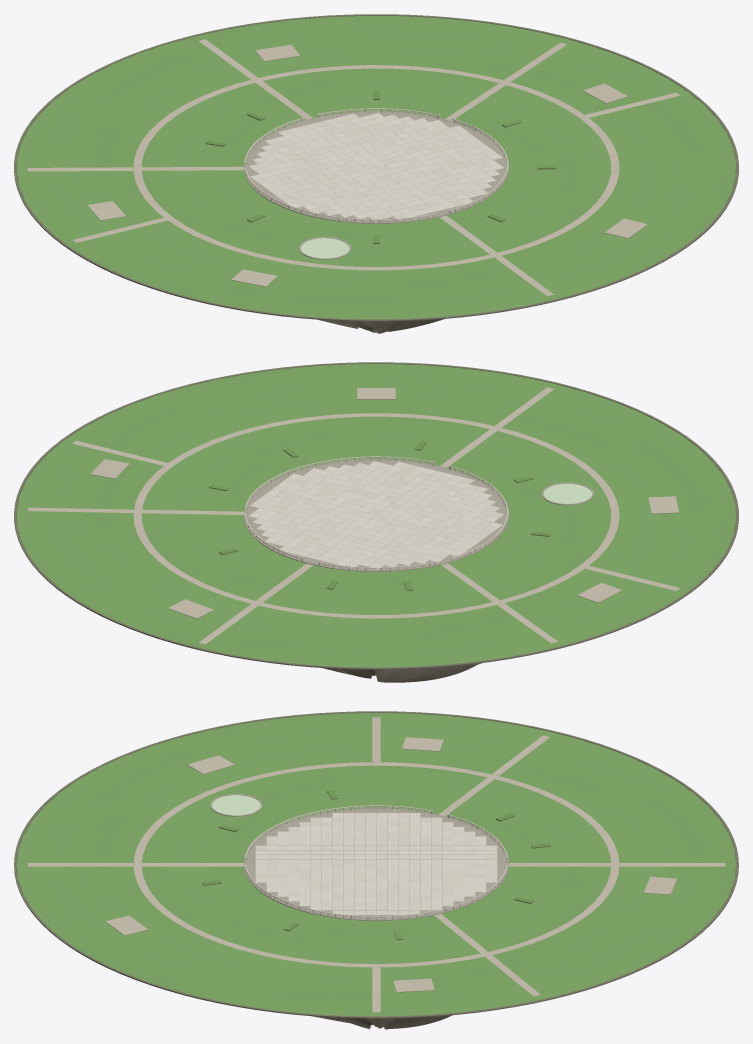
Rendered from lib_dao_vua_chu.glb.
3 renders of one model, top to bottom at view 1: azimuth 30°, elevation 25°; view 2: azimuth 150°, elevation 25°; view 3: azimuth 270°, elevation 25°, orthographic.
Visible parts, largest first — view 1: dao_vua_san_vuon_ho, dao_vua_day_da, dao_vua_lan_can; view 2: dao_vua_san_vuon_ho, dao_vua_day_da, dao_vua_lan_can; view 3: dao_vua_san_vuon_ho, dao_vua_day_da, dao_vua_lan_can.
Boxes of the visible parts, x1,y1,x2,y2 form: dao_vua_san_vuon_ho: (17,16,735,319); dao_vua_day_da: (14,14,738,333); dao_vua_lan_can: (244,108,508,222); dao_vua_san_vuon_ho: (17,364,735,667); dao_vua_day_da: (14,362,738,682); dao_vua_lan_can: (244,456,508,570); dao_vua_san_vuon_ho: (16,712,736,1016); dao_vua_day_da: (14,711,738,1029); dao_vua_lan_can: (245,805,507,919).
Size of the model in its own units: 264 by 64.81 by 264.
